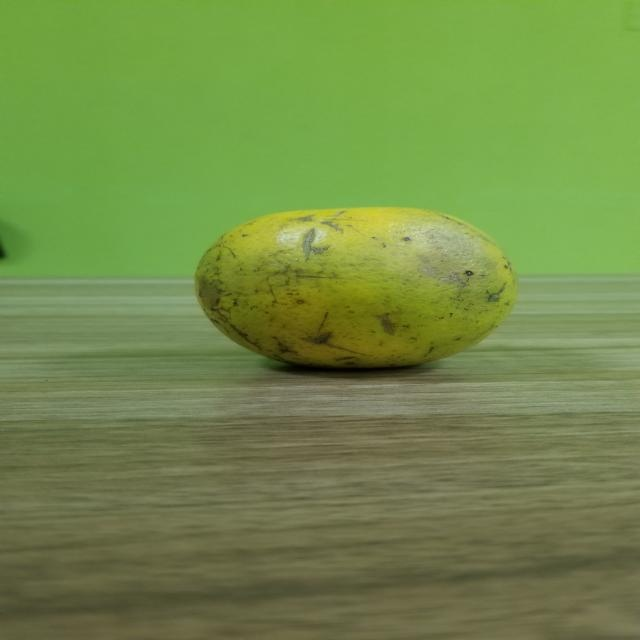agrume: (176, 203, 516, 387)
